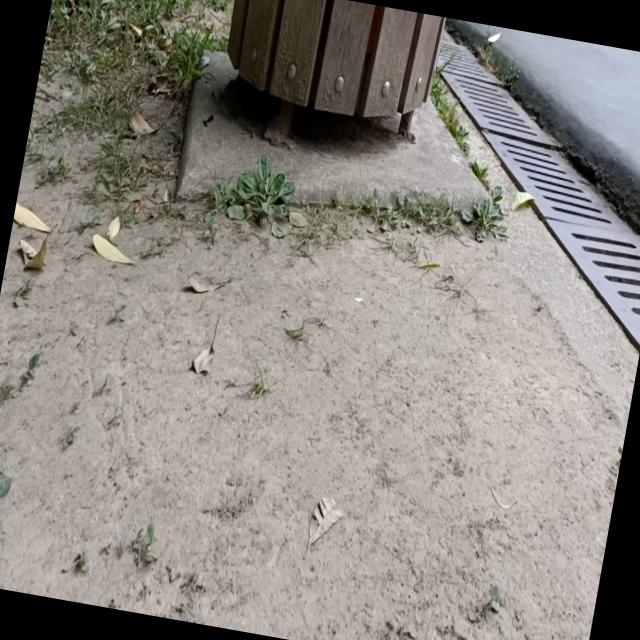grass: (23, 0, 228, 202), (211, 155, 294, 222)
white-sand: (0, 170, 639, 640)
